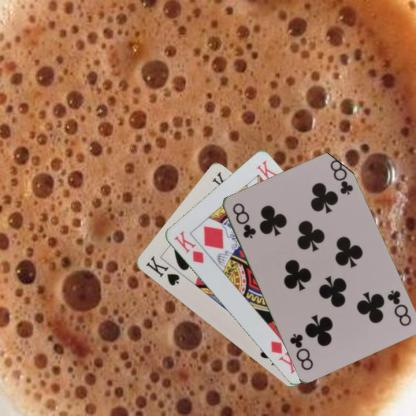8c: (384, 287, 413, 328), (229, 200, 257, 240)
Kd: (171, 228, 205, 264)
Ks: (143, 253, 181, 287)
